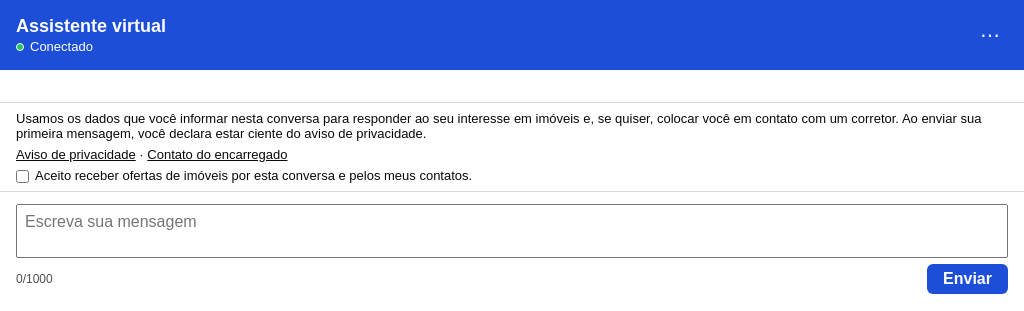
Conversa -- retomada, encerramento e sono (TEC-347) › o menu abre por um botao com aria-haspopup e fecha com Escape
The image size is (1024, 311).
Click the button named "Opções da conversa".
click(990, 35)  # box [972,20,1008,50]
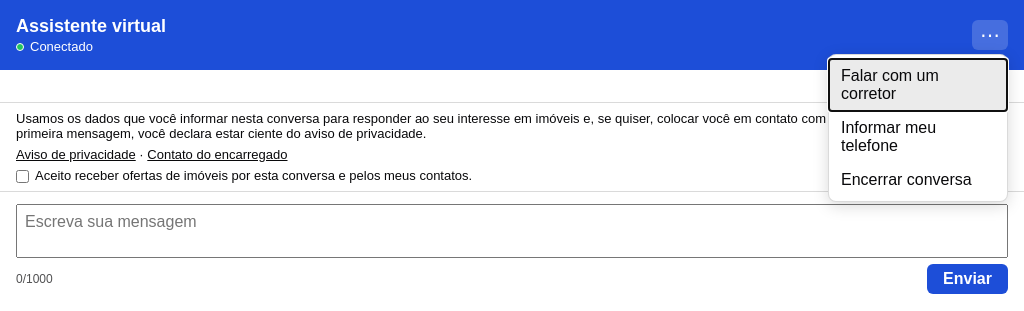
Expected: the button named "Opções da conversa" is expanded, [972,20,1008,50]
Expected: the menu is shown, [828,54,1008,202]
Press Escape in the menu item "Encerrar conversa", box [829,163,1007,197]
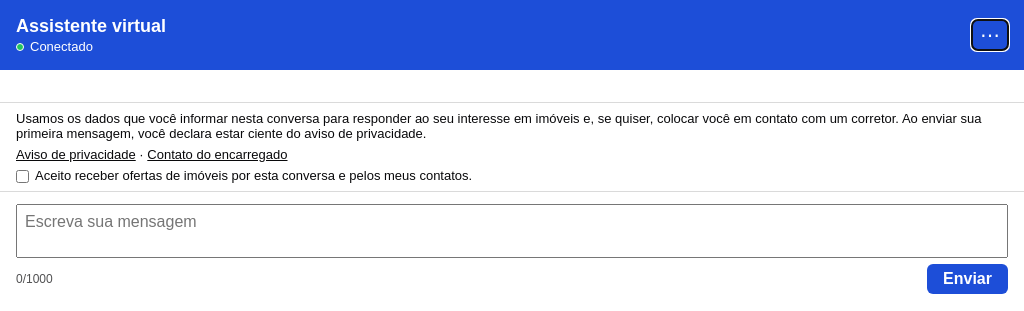
Expected: the menu is gone
Expected: the button named "Opções da conversa" is collapsed, [972,20,1008,50]
